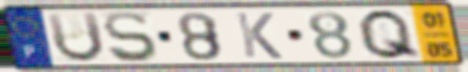8: (304, 8, 356, 62), (175, 10, 225, 62)
K: (233, 10, 286, 61)
Q: (355, 8, 425, 62)
S: (100, 9, 161, 65)
U: (43, 10, 108, 65)
